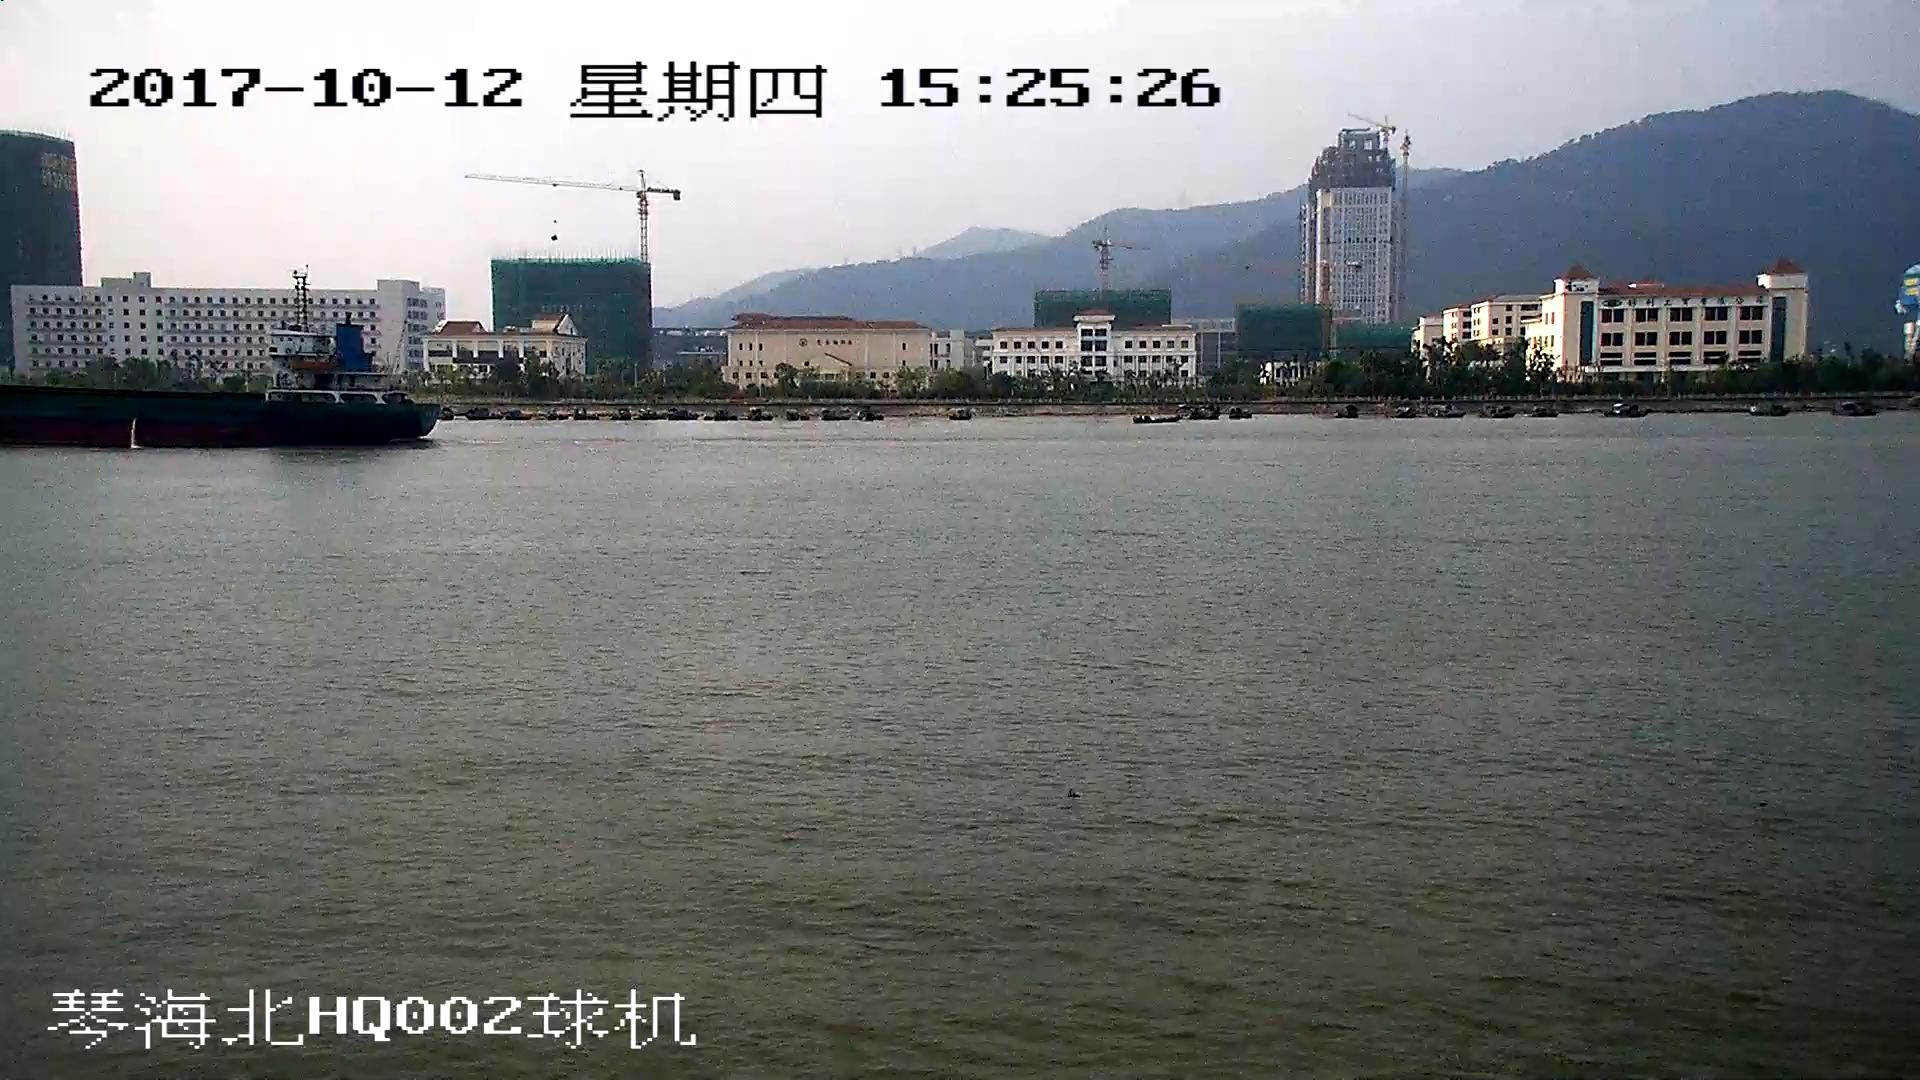general cargo ship: (1, 324, 435, 447)
